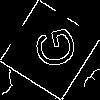G: (25, 25, 78, 73)
